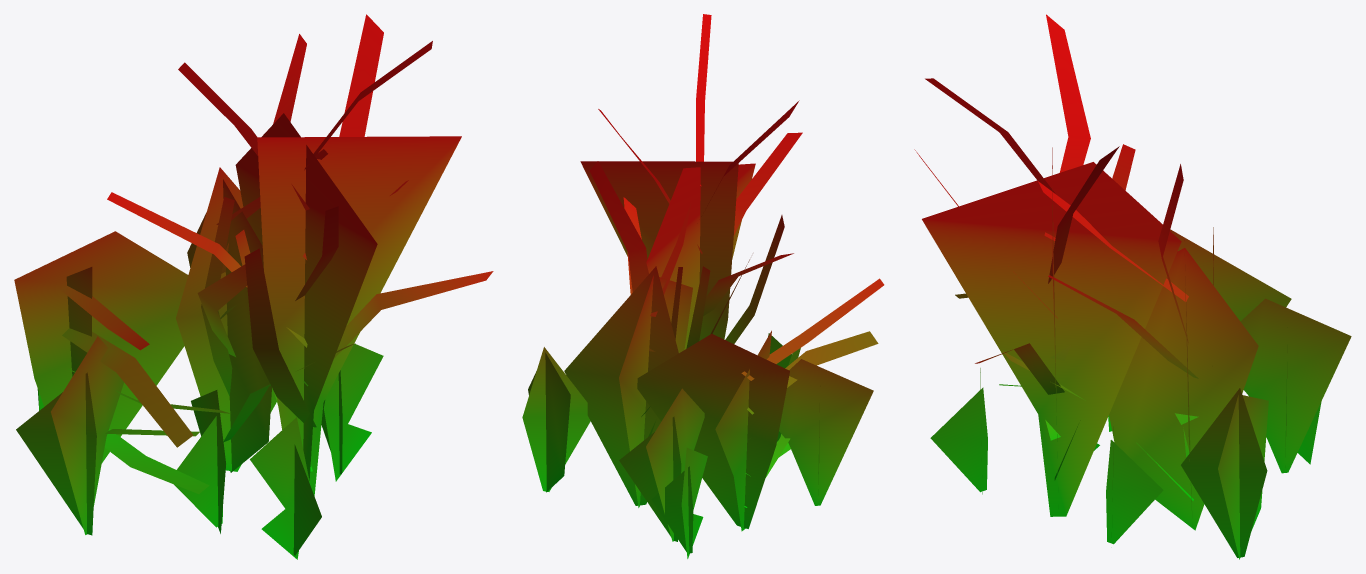
File: Var5_LOD2.fbx
3 views of the same model, side by side, from view 1: azimuth 30°, elevation 25°; view 2: azimuth 150°, elevation 25°; view 3: azimuth 270°, elevation 25° (orthographic). The views are drawn at different scales.
Visible parts, largest first — view 1: _aebj_Var5_LOD2; view 2: _aebj_Var5_LOD2; view 3: _aebj_Var5_LOD2.
Boxes of the visible parts, left/top/right/bottom form: _aebj_Var5_LOD2: left=14, top=14, right=493, bottom=559; _aebj_Var5_LOD2: left=522, top=14, right=884, bottom=558; _aebj_Var5_LOD2: left=914, top=14, right=1351, bottom=559.
Bounding box in the file's own units: 18.52 × 23.35 × 19.37.
